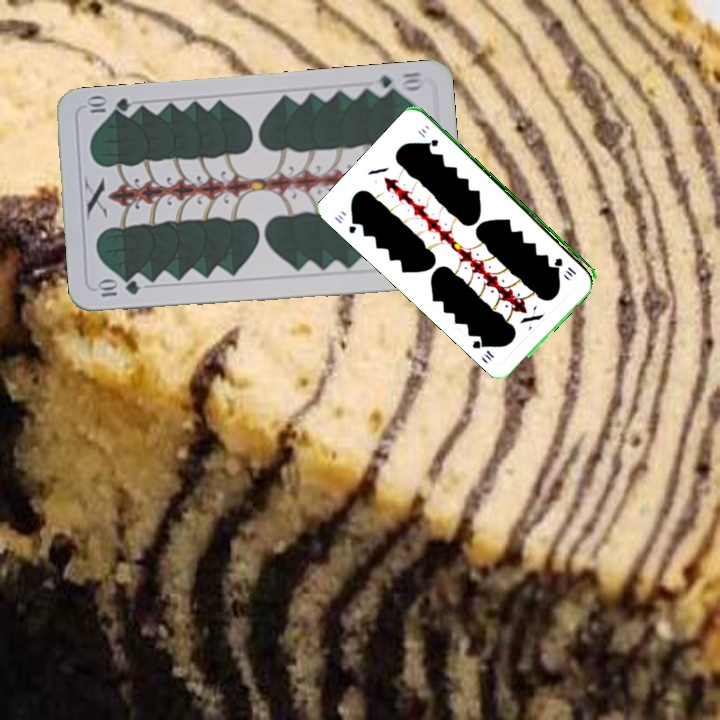G10: (367, 67, 426, 98), (94, 277, 142, 300), (330, 211, 361, 236), (551, 253, 579, 277)
